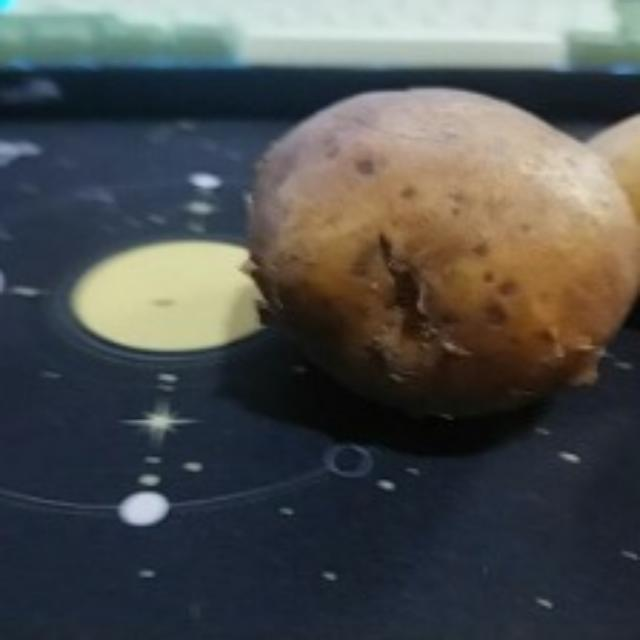Damaged potato: (246, 91, 640, 426)
